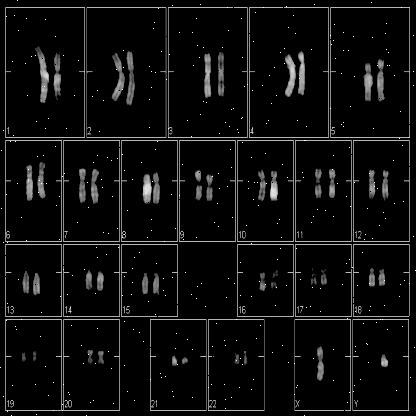1: (51, 40, 69, 108), (33, 40, 51, 107)
10: (268, 164, 282, 204), (256, 164, 268, 205)
11: (313, 162, 326, 201), (326, 162, 338, 201)
12: (366, 163, 378, 208), (380, 162, 392, 206)
13: (20, 264, 31, 302), (32, 264, 43, 302)
14: (83, 264, 94, 299), (96, 264, 107, 299)
15: (152, 268, 163, 299), (141, 268, 151, 299)
16: (256, 267, 270, 296), (270, 266, 282, 296)
17: (308, 261, 320, 291), (319, 262, 331, 292)
18: (368, 262, 376, 292), (378, 262, 386, 292)
19: (18, 348, 30, 368), (30, 348, 40, 368)
2: (110, 45, 126, 107), (125, 44, 141, 106)
20: (84, 344, 95, 369), (96, 344, 107, 369)
21: (168, 350, 180, 373), (180, 350, 190, 373)
22: (242, 347, 254, 372), (231, 347, 242, 372)
3: (202, 50, 216, 102), (217, 50, 231, 102)
4: (282, 50, 296, 100), (296, 50, 310, 98)
5: (362, 51, 376, 110), (376, 51, 390, 110)
6: (36, 158, 46, 204), (25, 158, 34, 206)
7: (76, 164, 88, 208), (89, 163, 101, 207)
8: (152, 168, 164, 210), (141, 168, 152, 210)
9: (190, 164, 204, 209), (203, 163, 217, 208)
X: (314, 343, 326, 384)
Y: (376, 346, 392, 376)
